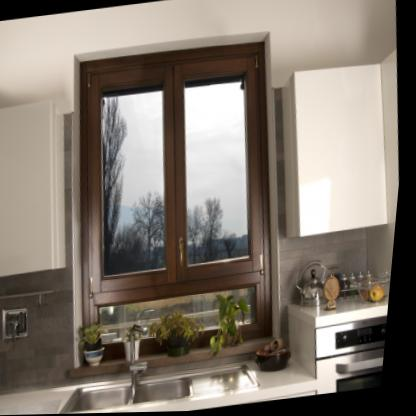Cabinet: (283, 66, 392, 240), (0, 99, 73, 280)
Window: (62, 36, 291, 304)
